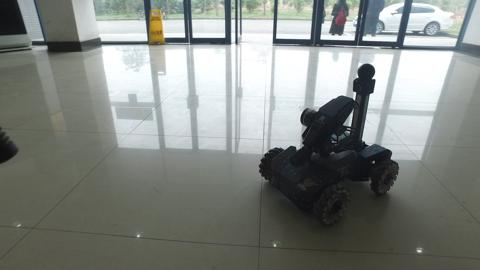car: (350, 1, 456, 36)
chariot: (257, 62, 399, 228)
